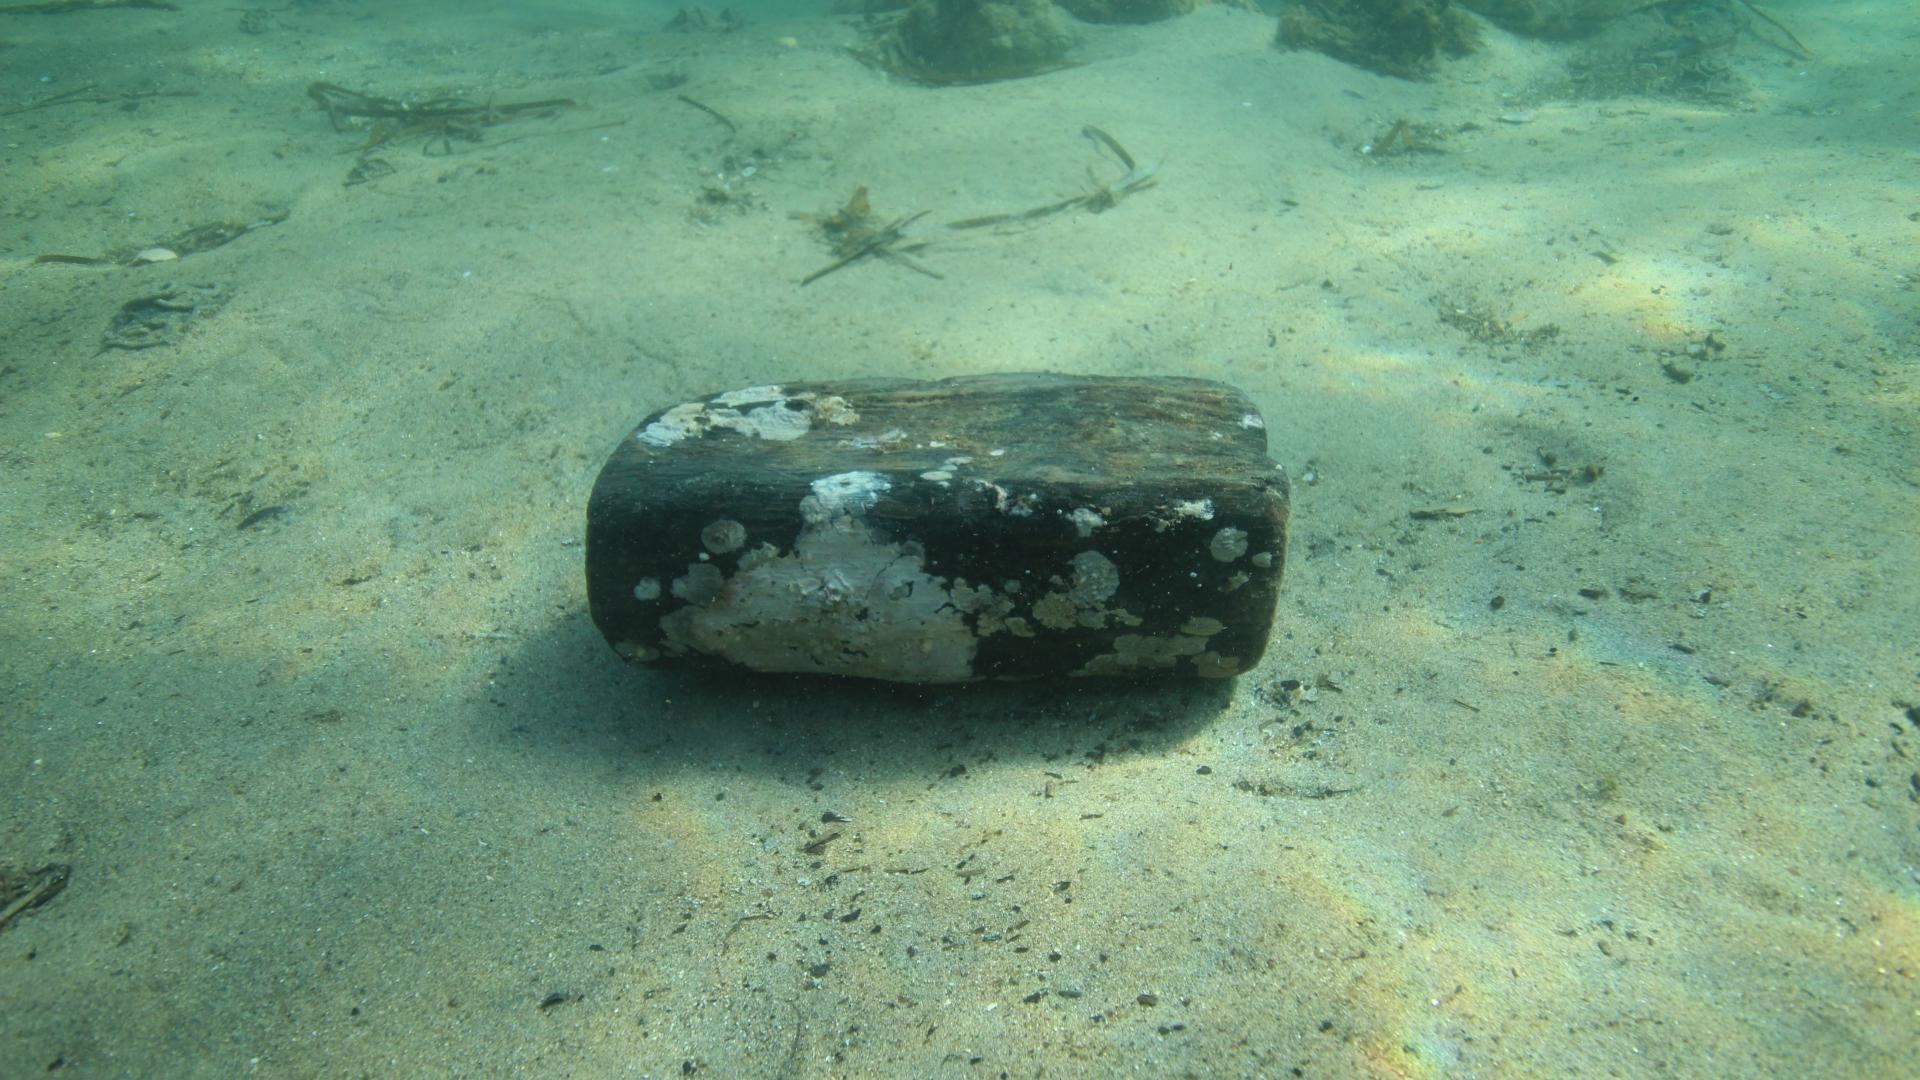wood: (584, 368, 1288, 680)
